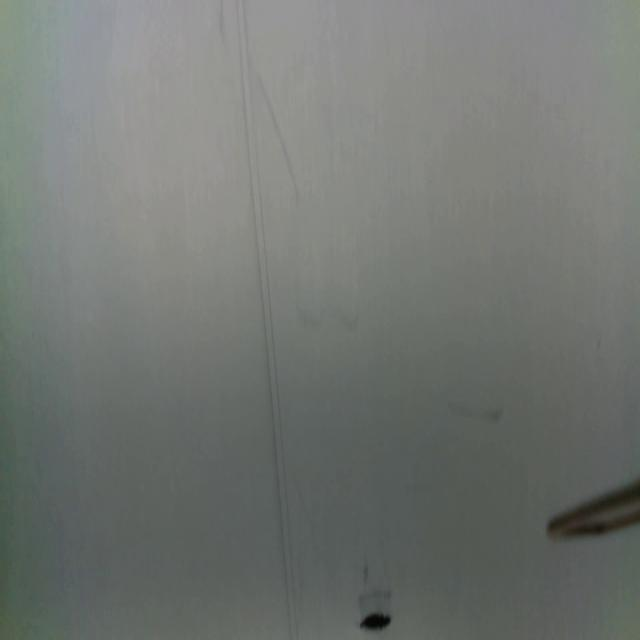crease: (232, 0, 300, 638), (260, 74, 302, 209)
hole: (358, 609, 392, 635)
